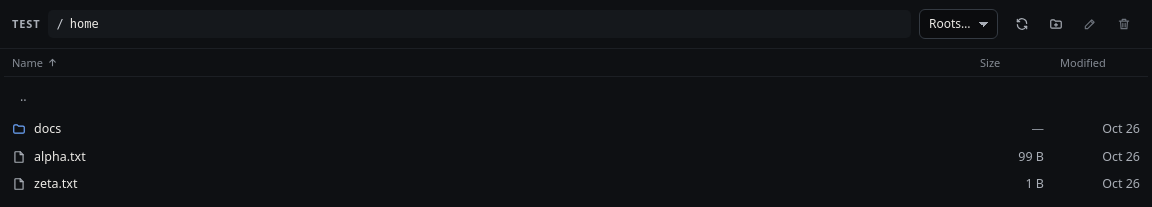
Test: FilePane › displays the server error when listing fails
Expected: the text "alpha.txt" is shown, 12,148 -> 86,165
Select "Root" in the dropdown named "Test roots". click: {"x": 958, "y": 24}
box: 919,9 -> 998,39
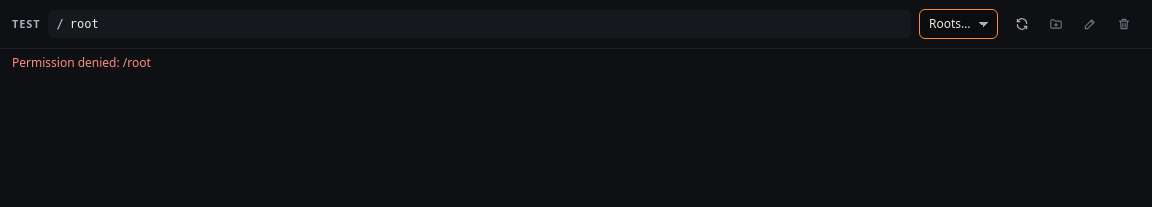
Result: the message reads "Permission denied: /root" at 12,54 -> 151,71
Result: the text "alpha.txt" is gone
